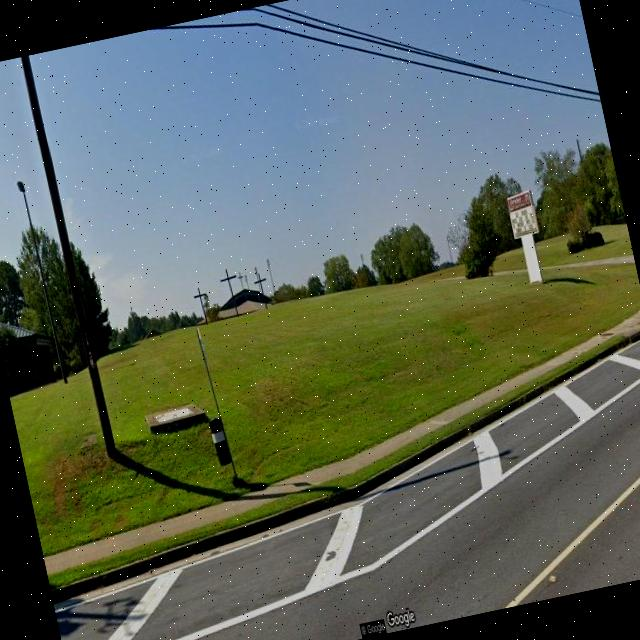trash_can: (208, 416, 232, 466)
